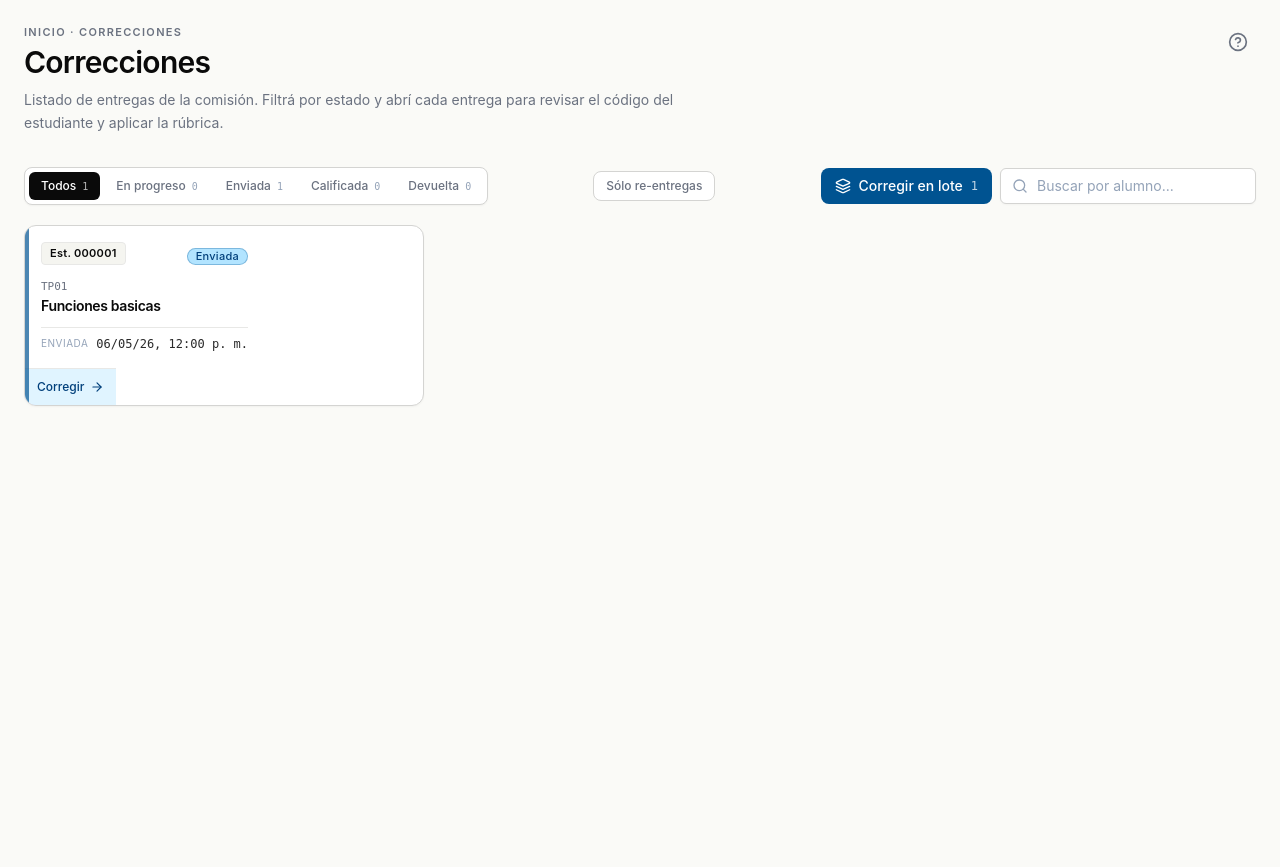
Scenario: CorreccionesView — codigo entregado vs reconstruido › si el artefacto no trae ejercicio_id cae al orden
Click the button with test id "entrega-drill-btn".
click(83, 254)  # box [24, 224, 424, 406]
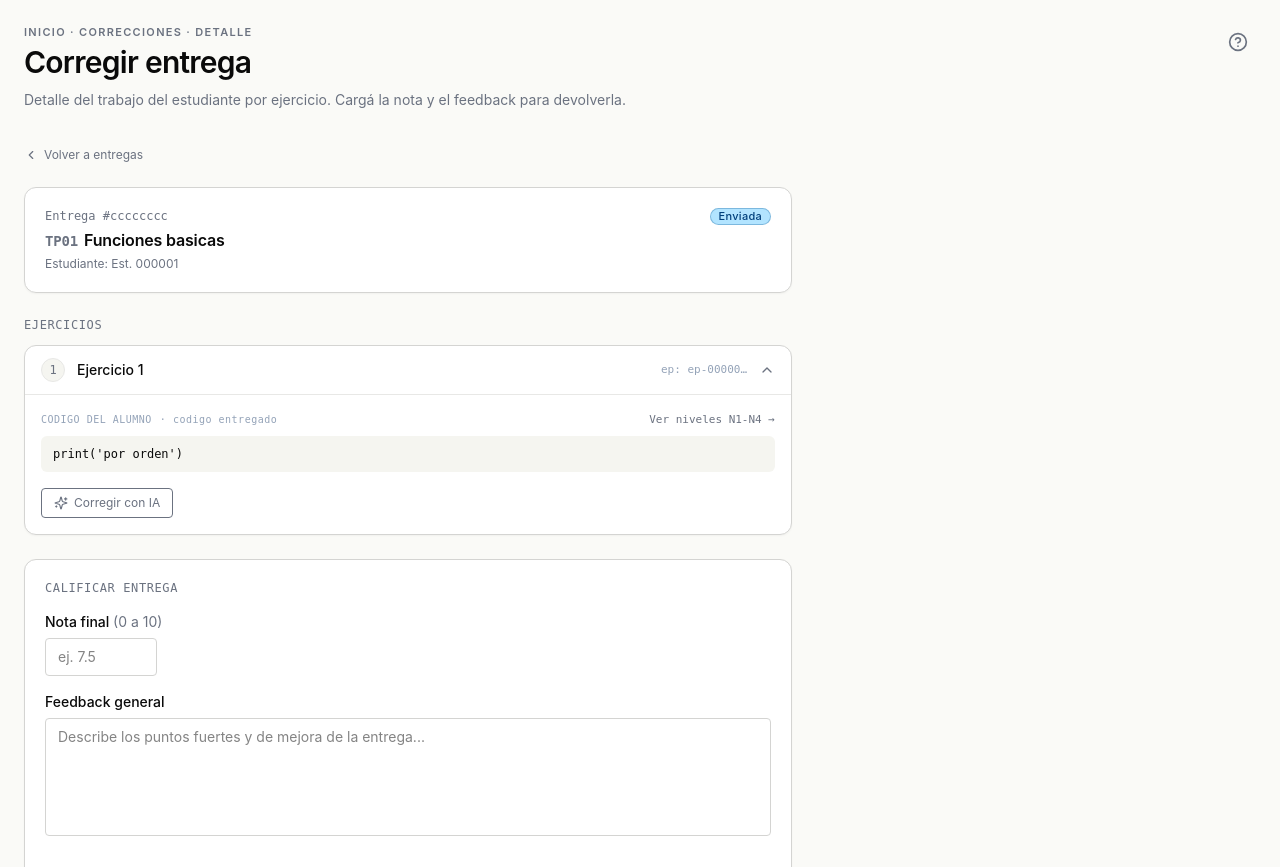
Check: the text "print('por orden')" is shown, box [41, 436, 775, 472]
